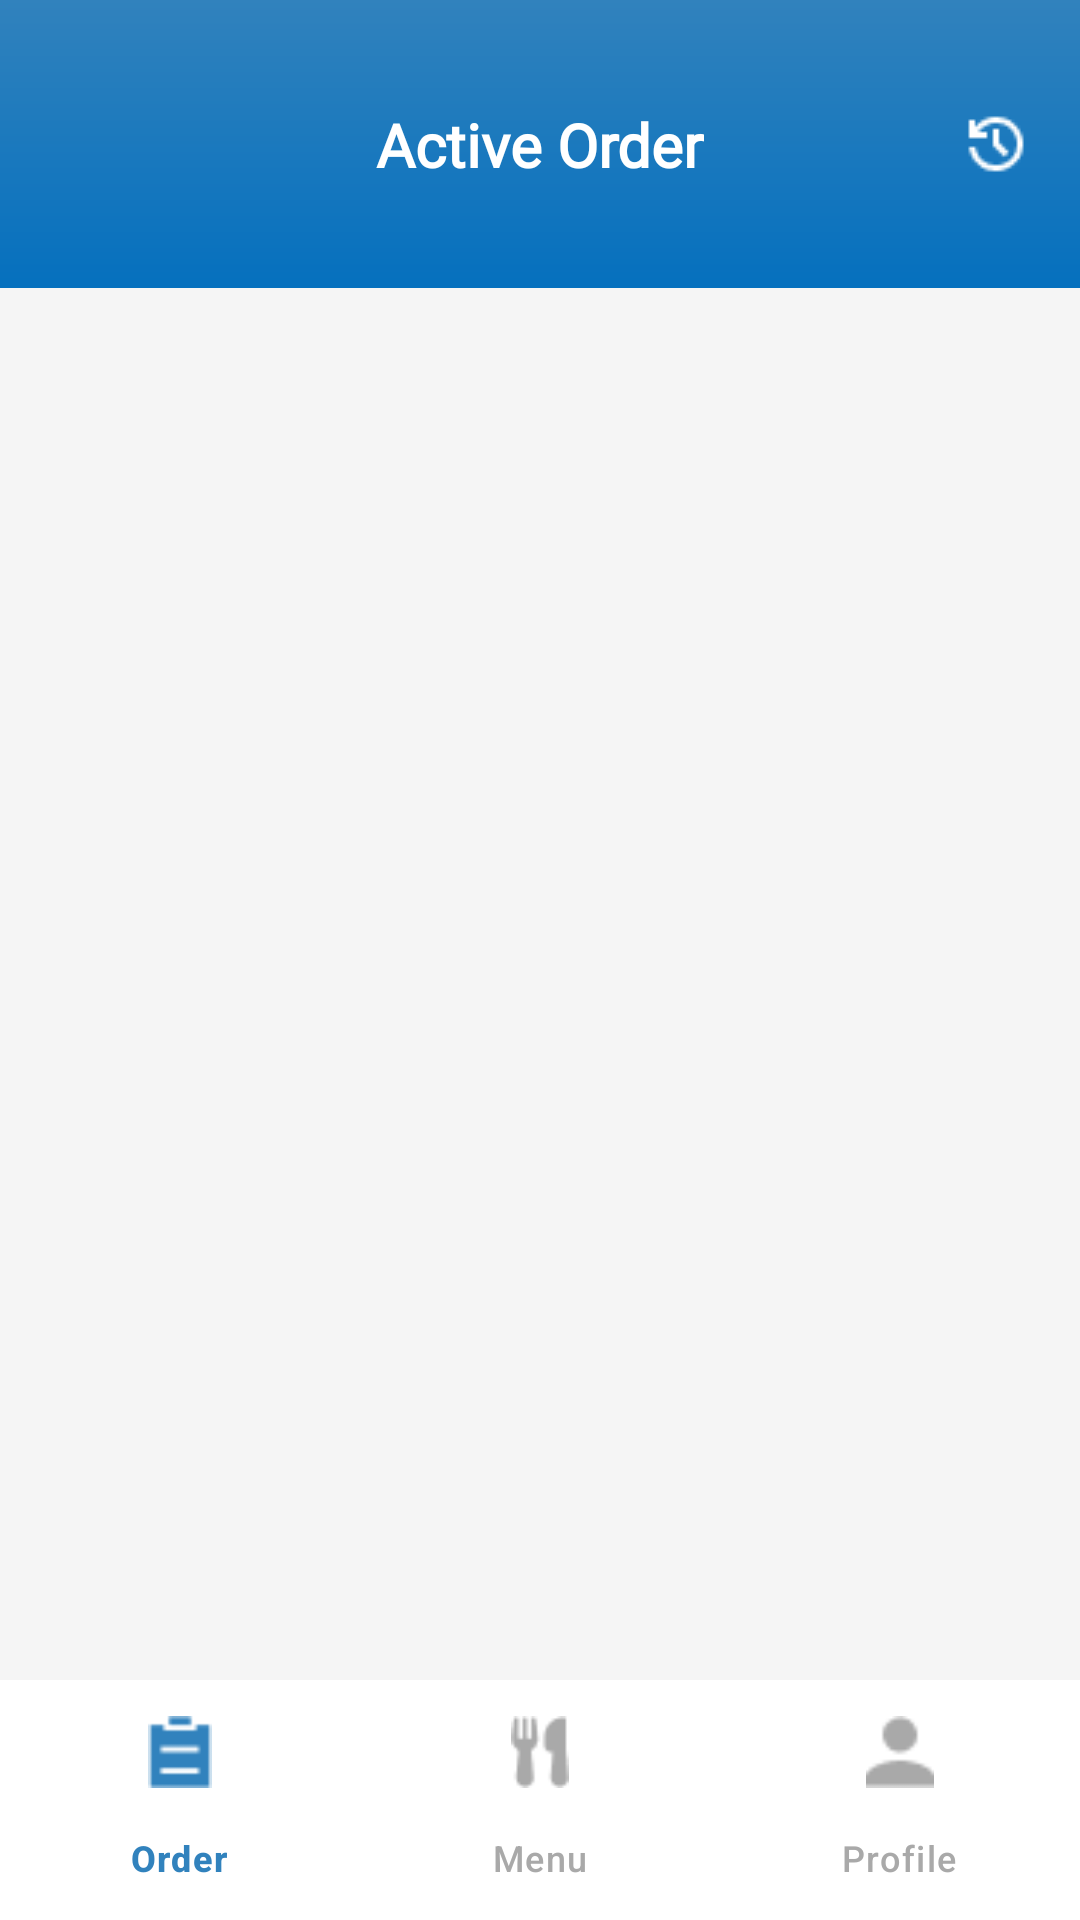

Where to tap for icons on this 1080×1920 app screen, as point (x, y):
history: point (996, 144)
